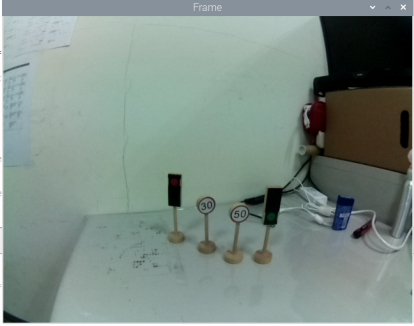Green: (261, 183, 283, 231)
Red: (165, 171, 186, 213)
Speed30: (195, 195, 218, 219)
Speed50: (226, 204, 250, 224)
